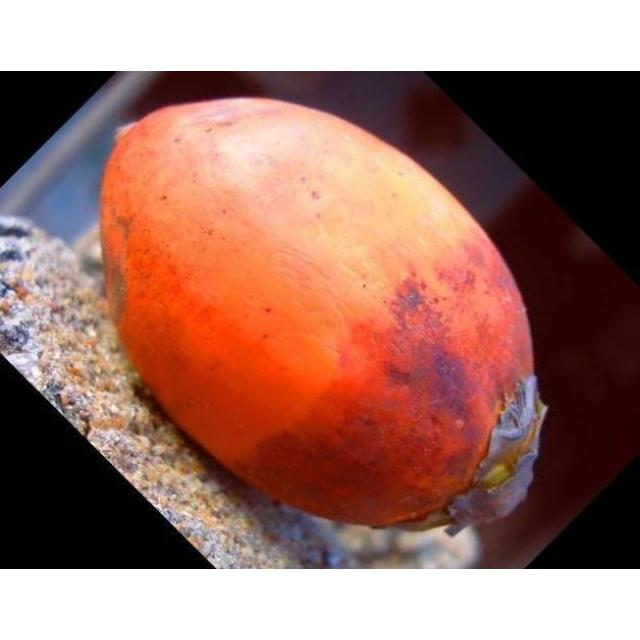good: (99, 97, 549, 533)
